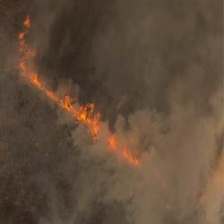fire: (32, 77, 136, 163), (14, 17, 38, 82)
smoke: (139, 50, 218, 224)
